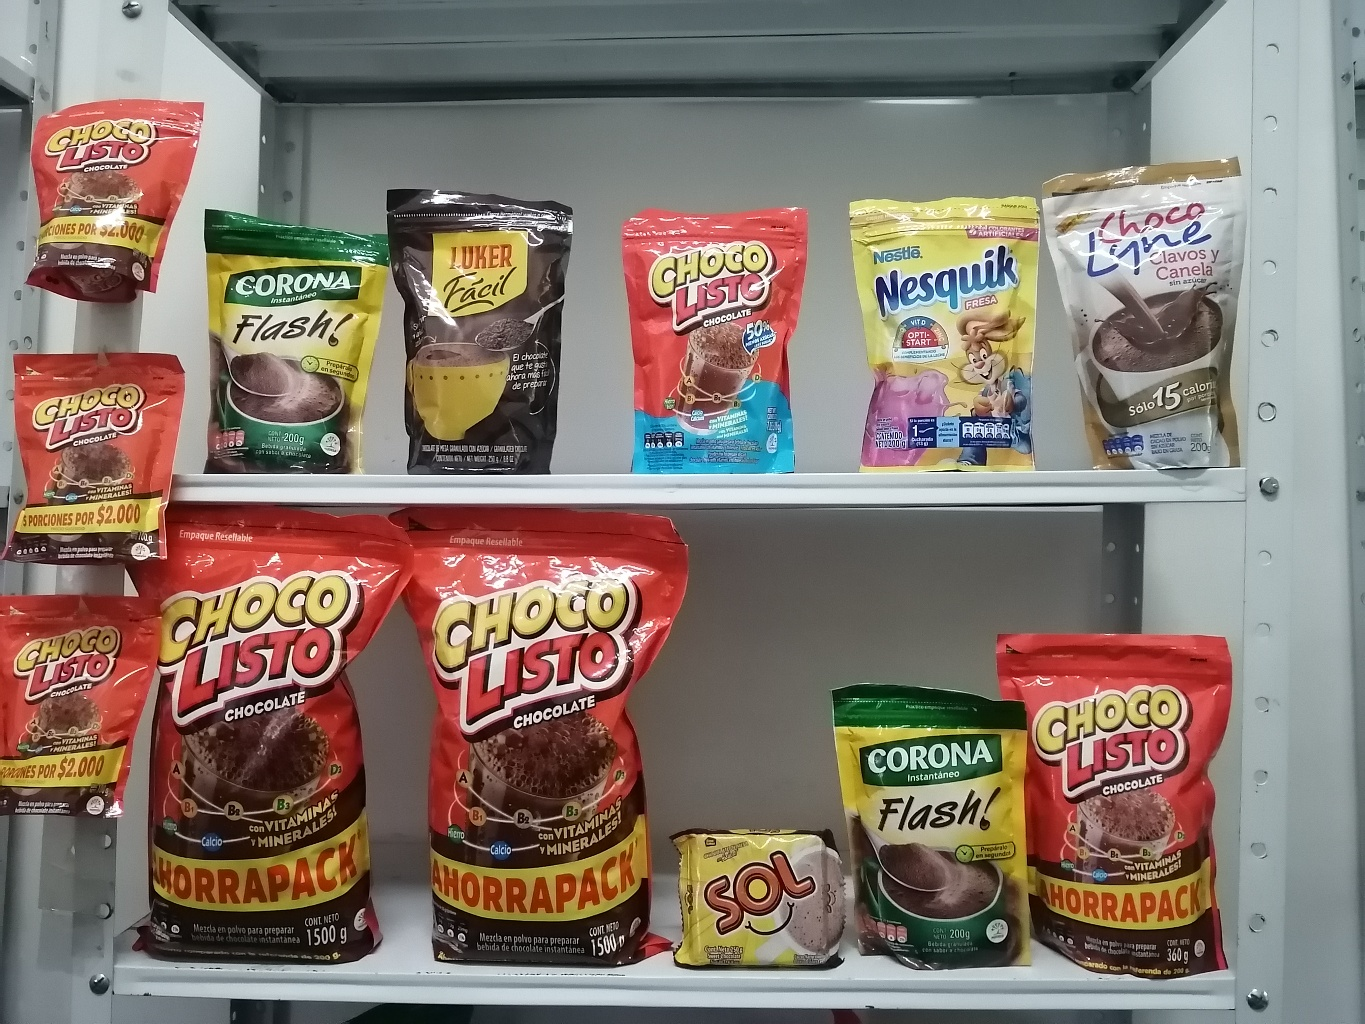COL0170103DYP1,500: (388, 497, 695, 964)
COL0170103DYP36000: (993, 623, 1243, 979)
COL0170104DYP20000: (610, 191, 843, 481)
COL0170305DYP20000: (845, 184, 1042, 478)
